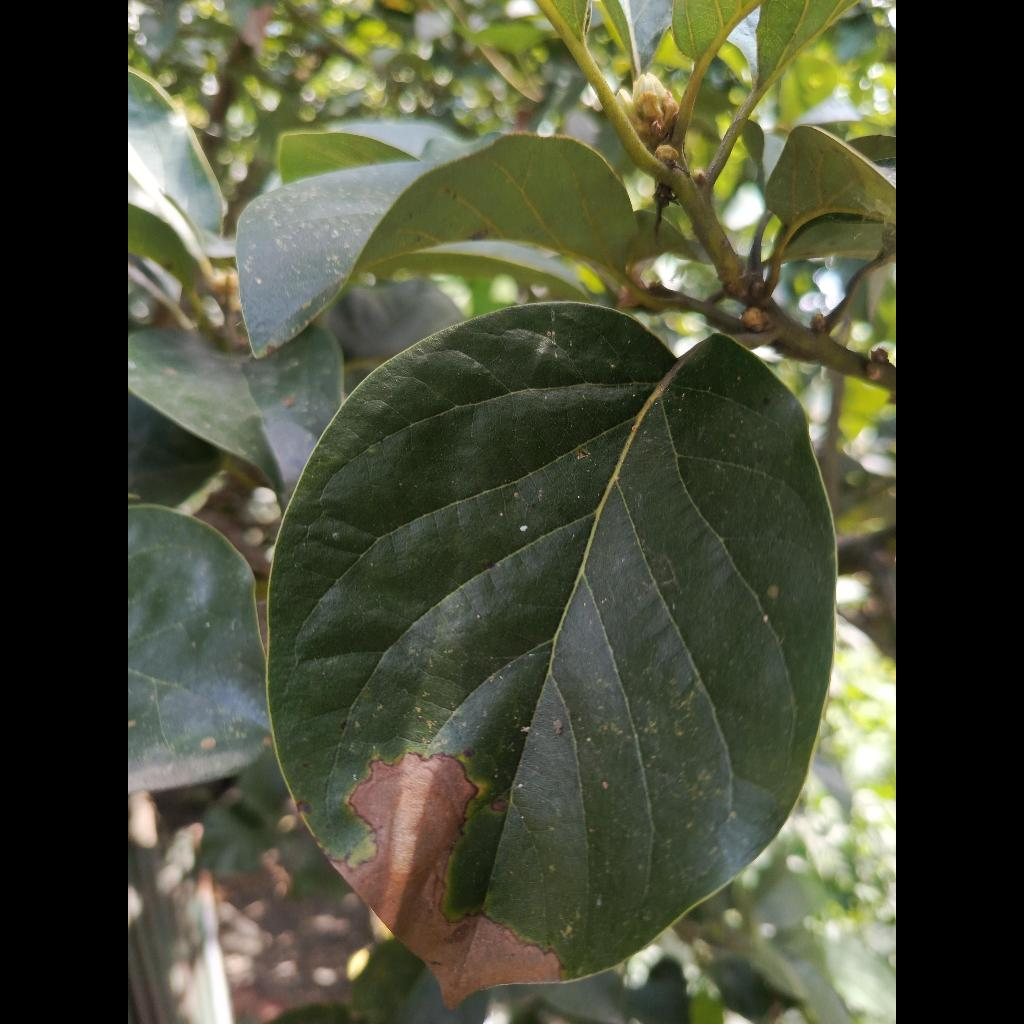antracnosis_hoja: (269, 304, 835, 1002)
